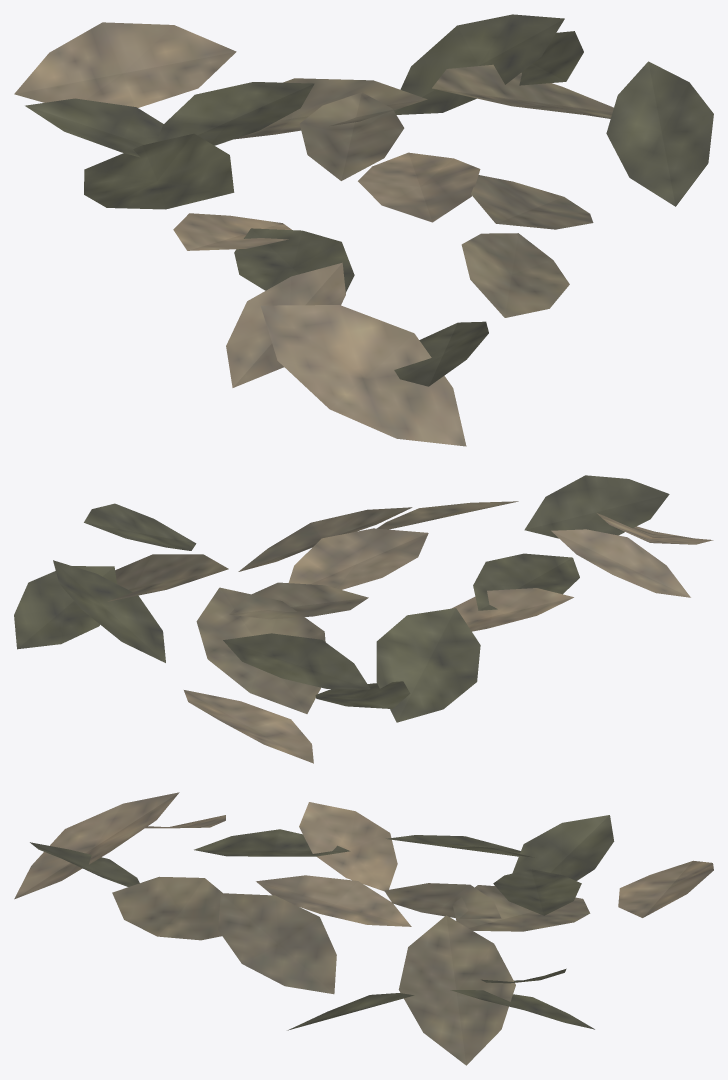
File: leaf_heap_03.glb
3 renders of one model, top to bottom at view 1: azimuth 30°, elevation 25°; view 2: azimuth 150°, elevation 25°; view 3: azimuth 270°, elevation 25°, orthographic. The views are drawn at different scales.
Parts seen in each view (by area): view 1: leaf_heap_03; view 2: leaf_heap_03; view 3: leaf_heap_03.
Part boxes in pixels (box(x1,y1,x2,y2)): leaf_heap_03: box(14, 14, 713, 446); leaf_heap_03: box(14, 475, 713, 763); leaf_heap_03: box(14, 792, 713, 1065).
Size of the model in its own units: 0.7736 by 0.1215 by 1.01.
Materials: 1 (1 with a texture image).
